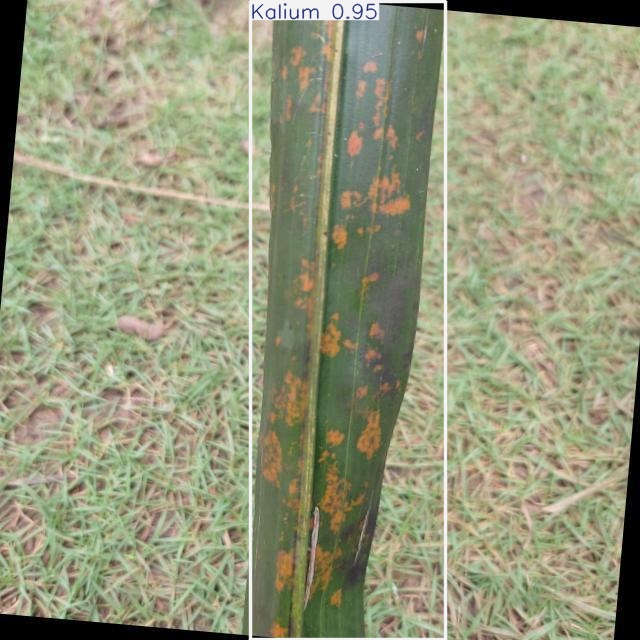Kalium: (251, 1, 446, 639)
